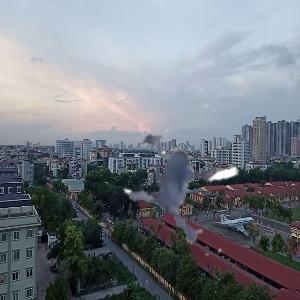drone: (110, 93, 293, 276)
